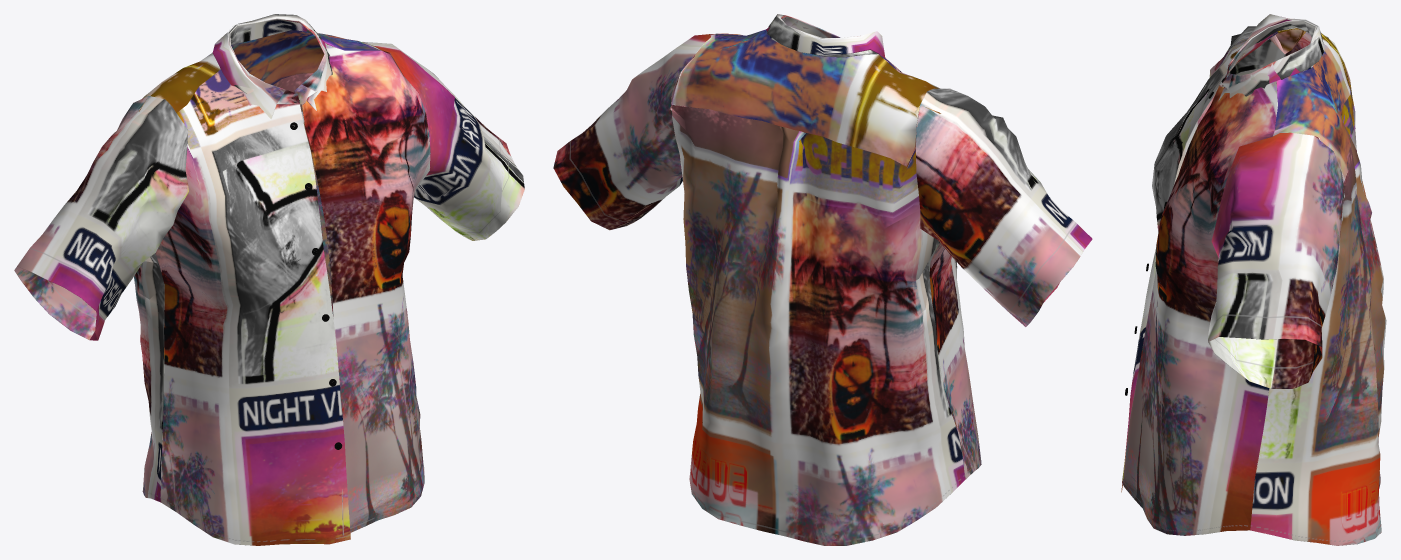
Rendered from resortblouselowpoly.fbx.
3 renders of one model, left to right at view 1: azimuth 30°, elevation 25°; view 2: azimuth 150°, elevation 25°; view 3: azimuth 270°, elevation 25°, orthographic. The views are drawn at different scales.
Visible parts, largest first — view 1: 凯信-RESORT BLOUSE_袖面_4; view 2: 凯信-RESORT BLOUSE_袖面_4; view 3: 凯信-RESORT BLOUSE_袖面_4.
Boxes of the visible parts, <box> form: 凯信-RESORT BLOUSE_袖面_4: <box>14,14,524,545</box>; 凯信-RESORT BLOUSE_袖面_4: <box>553,14,1092,545</box>; 凯信-RESORT BLOUSE_袖面_4: <box>1121,14,1386,545</box>.
Size of the model in its own units: 79.26 by 71.81 by 36.
